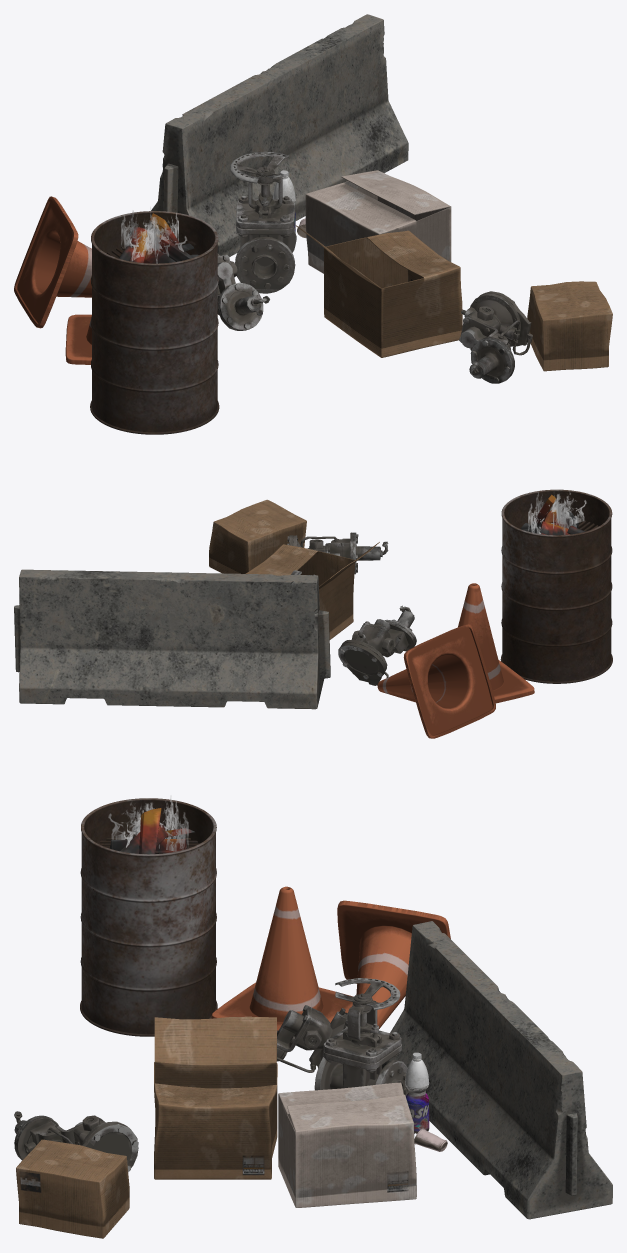
File: trash.glb
The picture shows the model from 3 angles, top to bottom: view 1: azimuth 30°, elevation 25°; view 2: azimuth 150°, elevation 25°; view 3: azimuth 270°, elevation 25°; orthographic projection. The views are drawn at different scales.
Parts seen in each view (by area): view 1: UBH Garbage 05.Shape, UBH Garbage 01.Shape, UBH Burning Barrel.Shape, UBH Cone.Shape, UBH Machine Part 03.Shape; view 2: UBH Garbage 05.Shape, UBH Burning Barrel.Shape, UBH Cone.Shape, UBH Garbage 01.Shape, UBH Machine Part 03.Shape; view 3: UBH Garbage 01.Shape, UBH Garbage 05.Shape, UBH Burning Barrel.Shape, UBH Cone.Shape, UBH Machine Part 03.Shape.
Part boxes in pixels (left/top/right/bottom): UBH Garbage 05.Shape: left=151, top=14, right=408, bottom=293; UBH Garbage 01.Shape: left=296, top=170, right=612, bottom=383; UBH Burning Barrel.Shape: left=90, top=207, right=219, bottom=434; UBH Cone.Shape: left=14, top=196, right=91, bottom=364; UBH Machine Part 03.Shape: left=217, top=253, right=269, bottom=330; UBH Garbage 05.Shape: left=14, top=569, right=330, bottom=709; UBH Burning Barrel.Shape: left=500, top=489, right=612, bottom=683; UBH Cone.Shape: left=377, top=583, right=534, bottom=738; UBH Garbage 01.Shape: left=209, top=499, right=388, bottom=639; UBH Machine Part 03.Shape: left=338, top=605, right=416, bottom=685; UBH Garbage 01.Shape: left=14, top=1016, right=416, bottom=1238; UBH Garbage 05.Shape: left=314, top=921, right=612, bottom=1219; UBH Burning Barrel.Shape: left=80, top=795, right=217, bottom=1036; UBH Cone.Shape: left=211, top=886, right=450, bottom=1030; UBH Machine Part 03.Shape: left=276, top=1005, right=347, bottom=1072.
Bounding box in the file's own units: 3.01 × 1.32 × 3.
9 materials, 9 textured.
